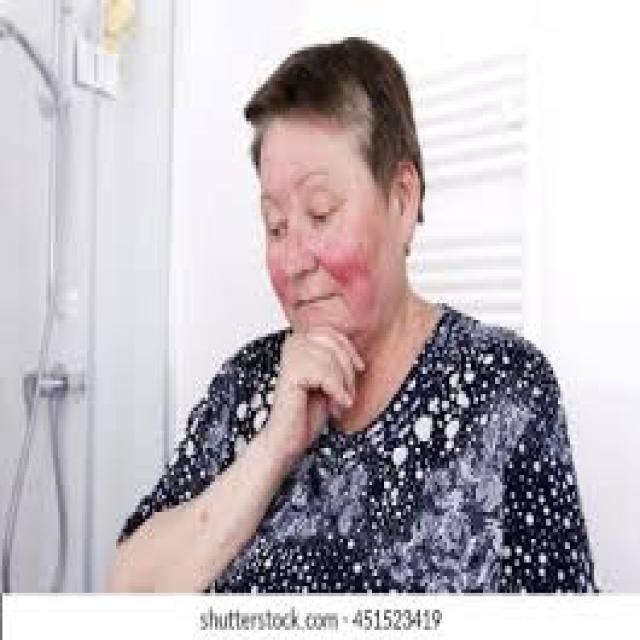Rosacea: (323, 241, 382, 321), (265, 255, 289, 304)
